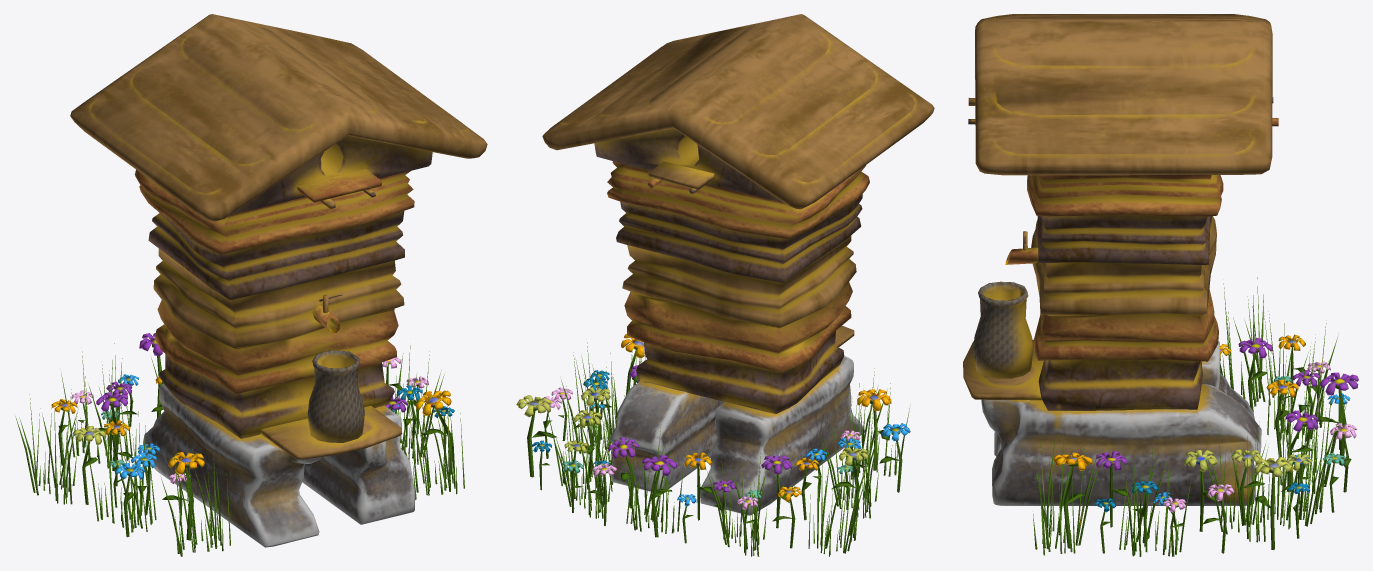
The model's file is HiveL.fbx.
3 renders of one model, left to right at view 1: azimuth 30°, elevation 25°; view 2: azimuth 150°, elevation 25°; view 3: azimuth 270°, elevation 25°, orthographic. The views are drawn at different scales.
Visible parts, largest first — view 1: HiveL; view 2: HiveL; view 3: HiveL.
Boxes of the visible parts, left/top/right/bottom form: HiveL: left=15, top=14, right=487, bottom=556; HiveL: left=516, top=14, right=934, bottom=556; HiveL: left=963, top=14, right=1358, bottom=556.
Bounding box in the file's own units: 101 × 113 × 88.69.
